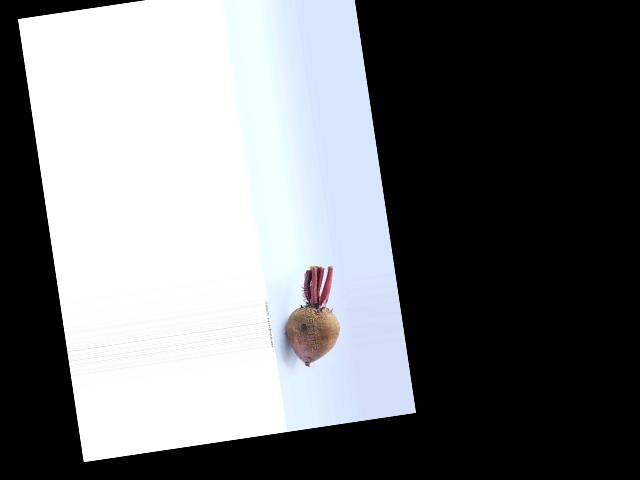beet: (277, 265, 345, 367)
